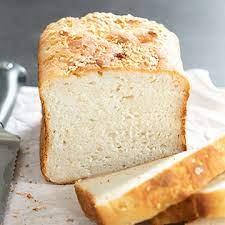bread: (38, 13, 225, 225)
